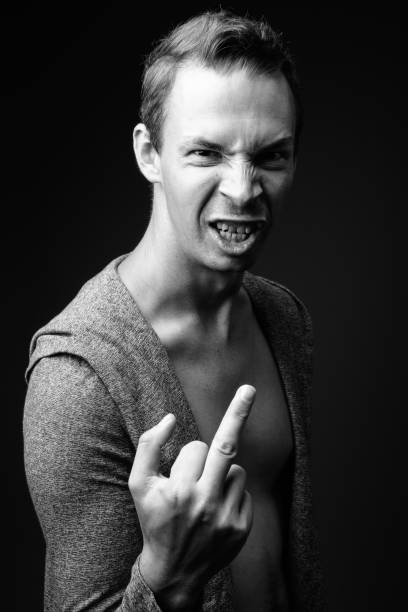insulting_gesture: (129, 384, 258, 611)
